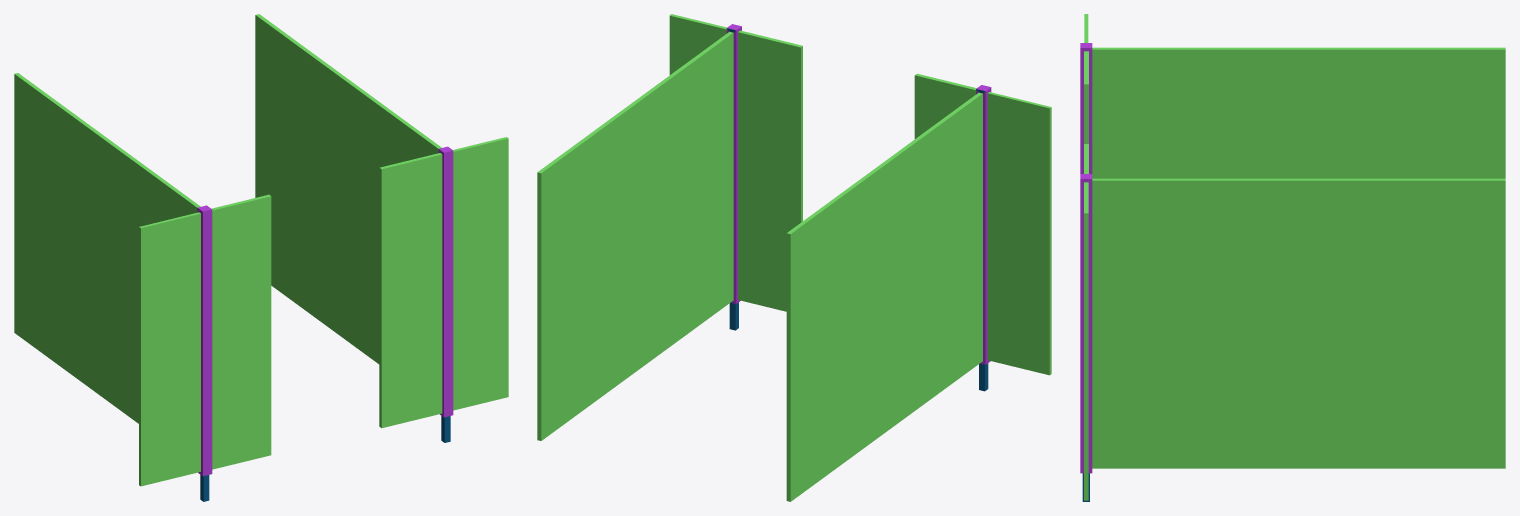
3 renders of one model, left to right at view 1: azimuth 30°, elevation 25°; view 2: azimuth 150°, elevation 25°; view 3: azimuth 270°, elevation 25°, orthographic. The views are drawn at different scales.
Visible parts, largest first — view 1: Cube.007; view 2: Cube.007; view 3: Cube.007.
Part boxes in pixels (<box>): Cube.007: <box>14,14,508,501</box>; Cube.007: <box>537,14,1051,501</box>; Cube.007: <box>1080,14,1505,501</box>.
Bounding box in the file's own units: 286 × 217 × 258.
